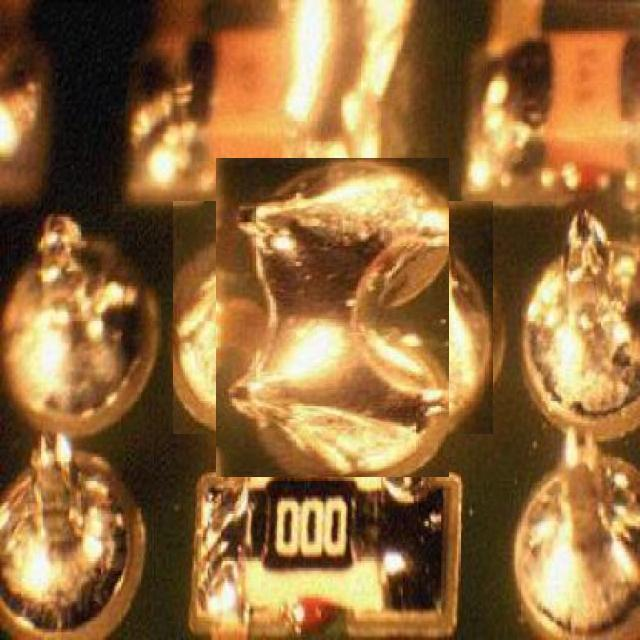Short_circuit: (195, 179, 471, 456)
